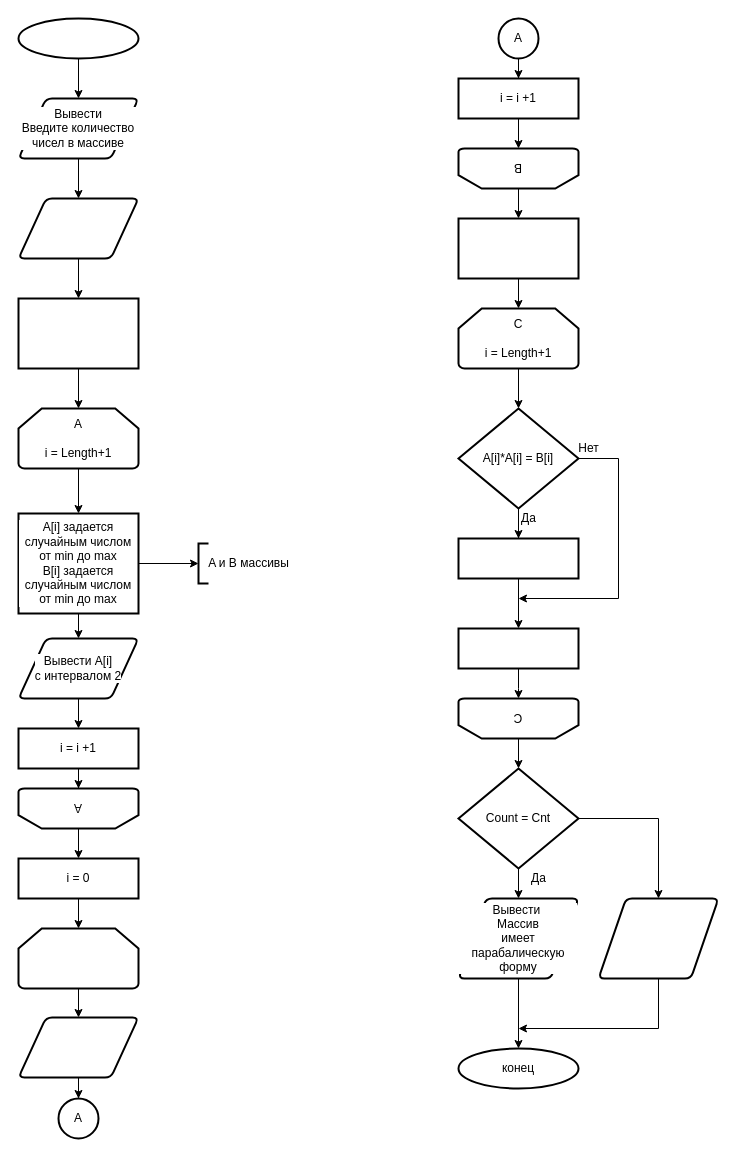
The diagram is 736 pixels wide and 1156 high, and some of its shapes have lost their labels. Each missing label, with the box of its shape:
B i = Length+1: (17, 927, 139, 989)
Cnt = Cnt+1 i = i +1: (457, 627, 579, 669)
Count = Count+1: (457, 537, 579, 579)
i = 0 Count = 0 Cnt = 0: (457, 217, 579, 279)
i = 0 min = -1000 max = 1000: (17, 297, 139, 369)
Ввод Length: (17, 197, 139, 259)
Вывести B[i] с интервалом 2: (17, 1016, 139, 1078)
Вывести Массив не имеет парабалическую форму: (597, 897, 719, 979)
начало: (17, 17, 139, 59)
